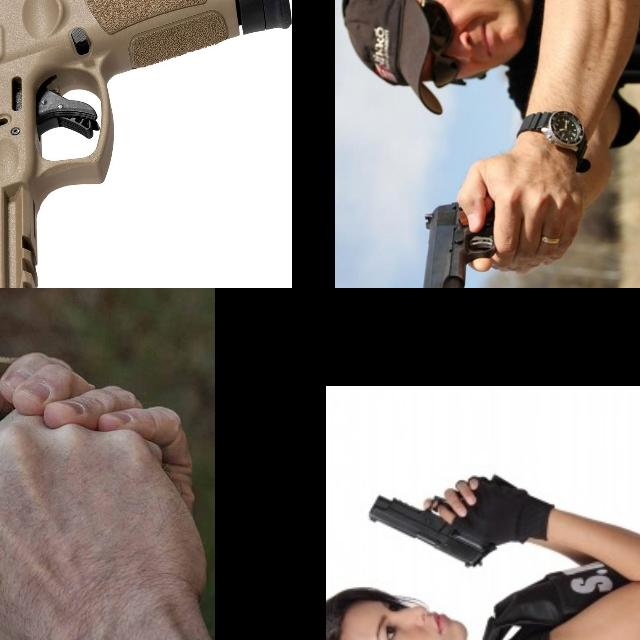handgun: (0, 0, 292, 288), (0, 288, 89, 593), (364, 492, 500, 570), (412, 198, 498, 288)
